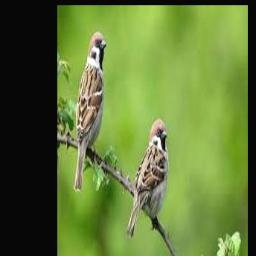Sparrow: (74, 31, 106, 192), (127, 118, 168, 237)
